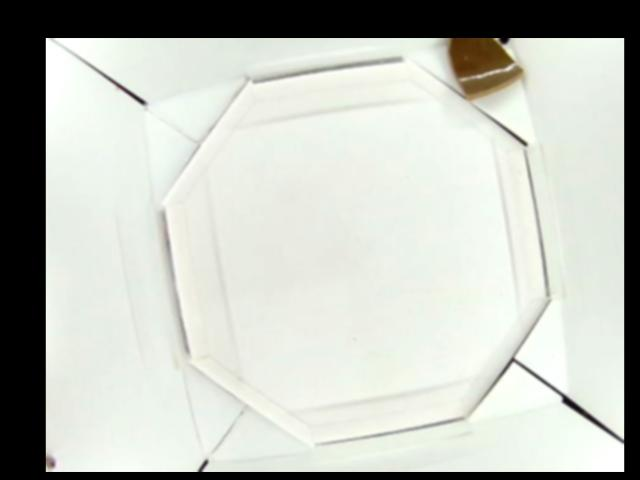China: (437, 38, 524, 102)
